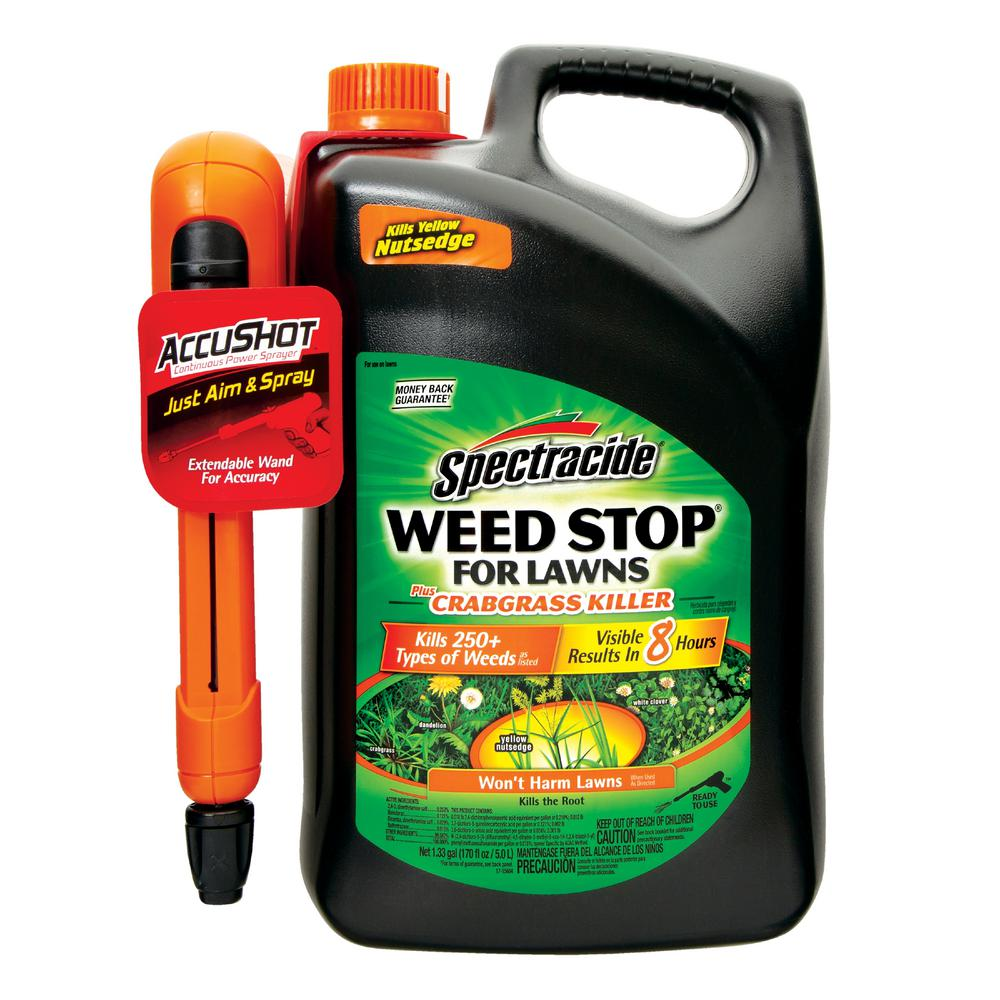crabgrass: (354, 704, 429, 791)
